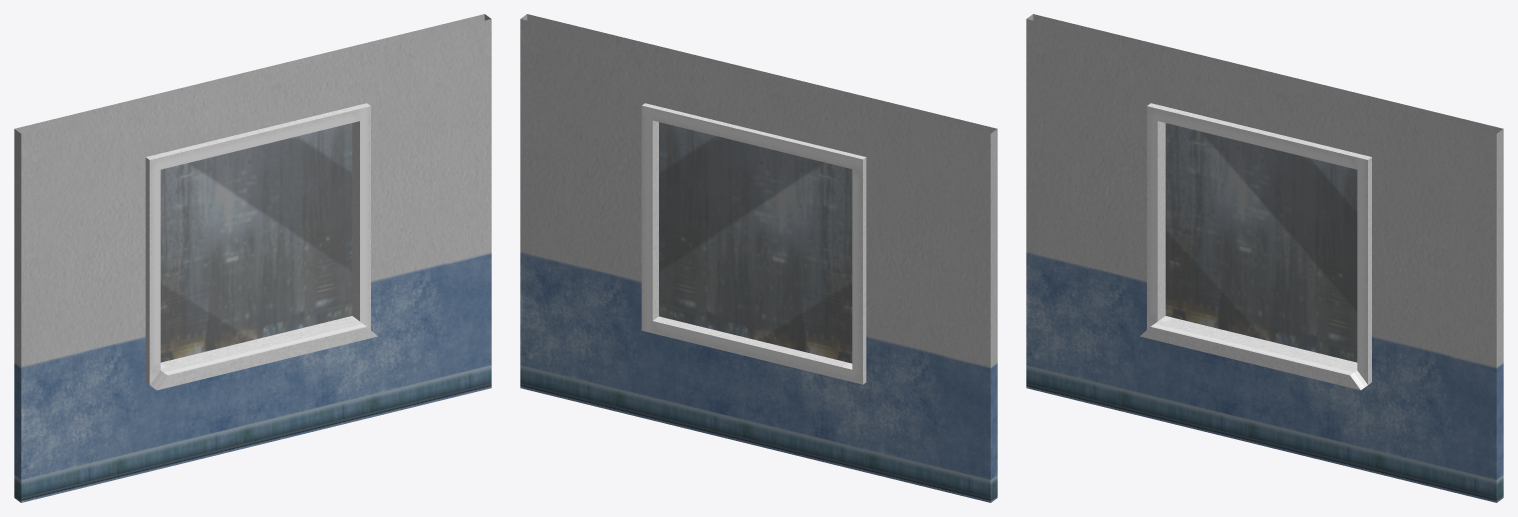
Rendered from Wall_medium_fenetreA.FBX.
3 views of the same model, side by side, from view 1: azimuth 30°, elevation 25°; view 2: azimuth 150°, elevation 25°; view 3: azimuth 330°, elevation 25° (orthographic).
Visible parts, largest first — view 1: Wall_medium_FenetresA_4m; view 2: Wall_medium_FenetresA_4m; view 3: Wall_medium_FenetresA_4m.
Part boxes in pixels (bbox=[...]): Wall_medium_FenetresA_4m: bbox=[14, 14, 491, 502]; Wall_medium_FenetresA_4m: bbox=[520, 14, 997, 502]; Wall_medium_FenetresA_4m: bbox=[1026, 14, 1503, 502].
Size of the model in its own units: 262 by 197 by 20.55.
